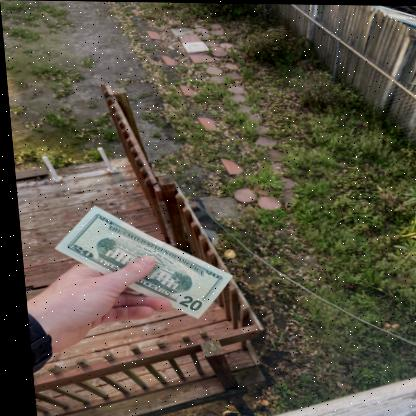twenty-back: (55, 204, 237, 320)
